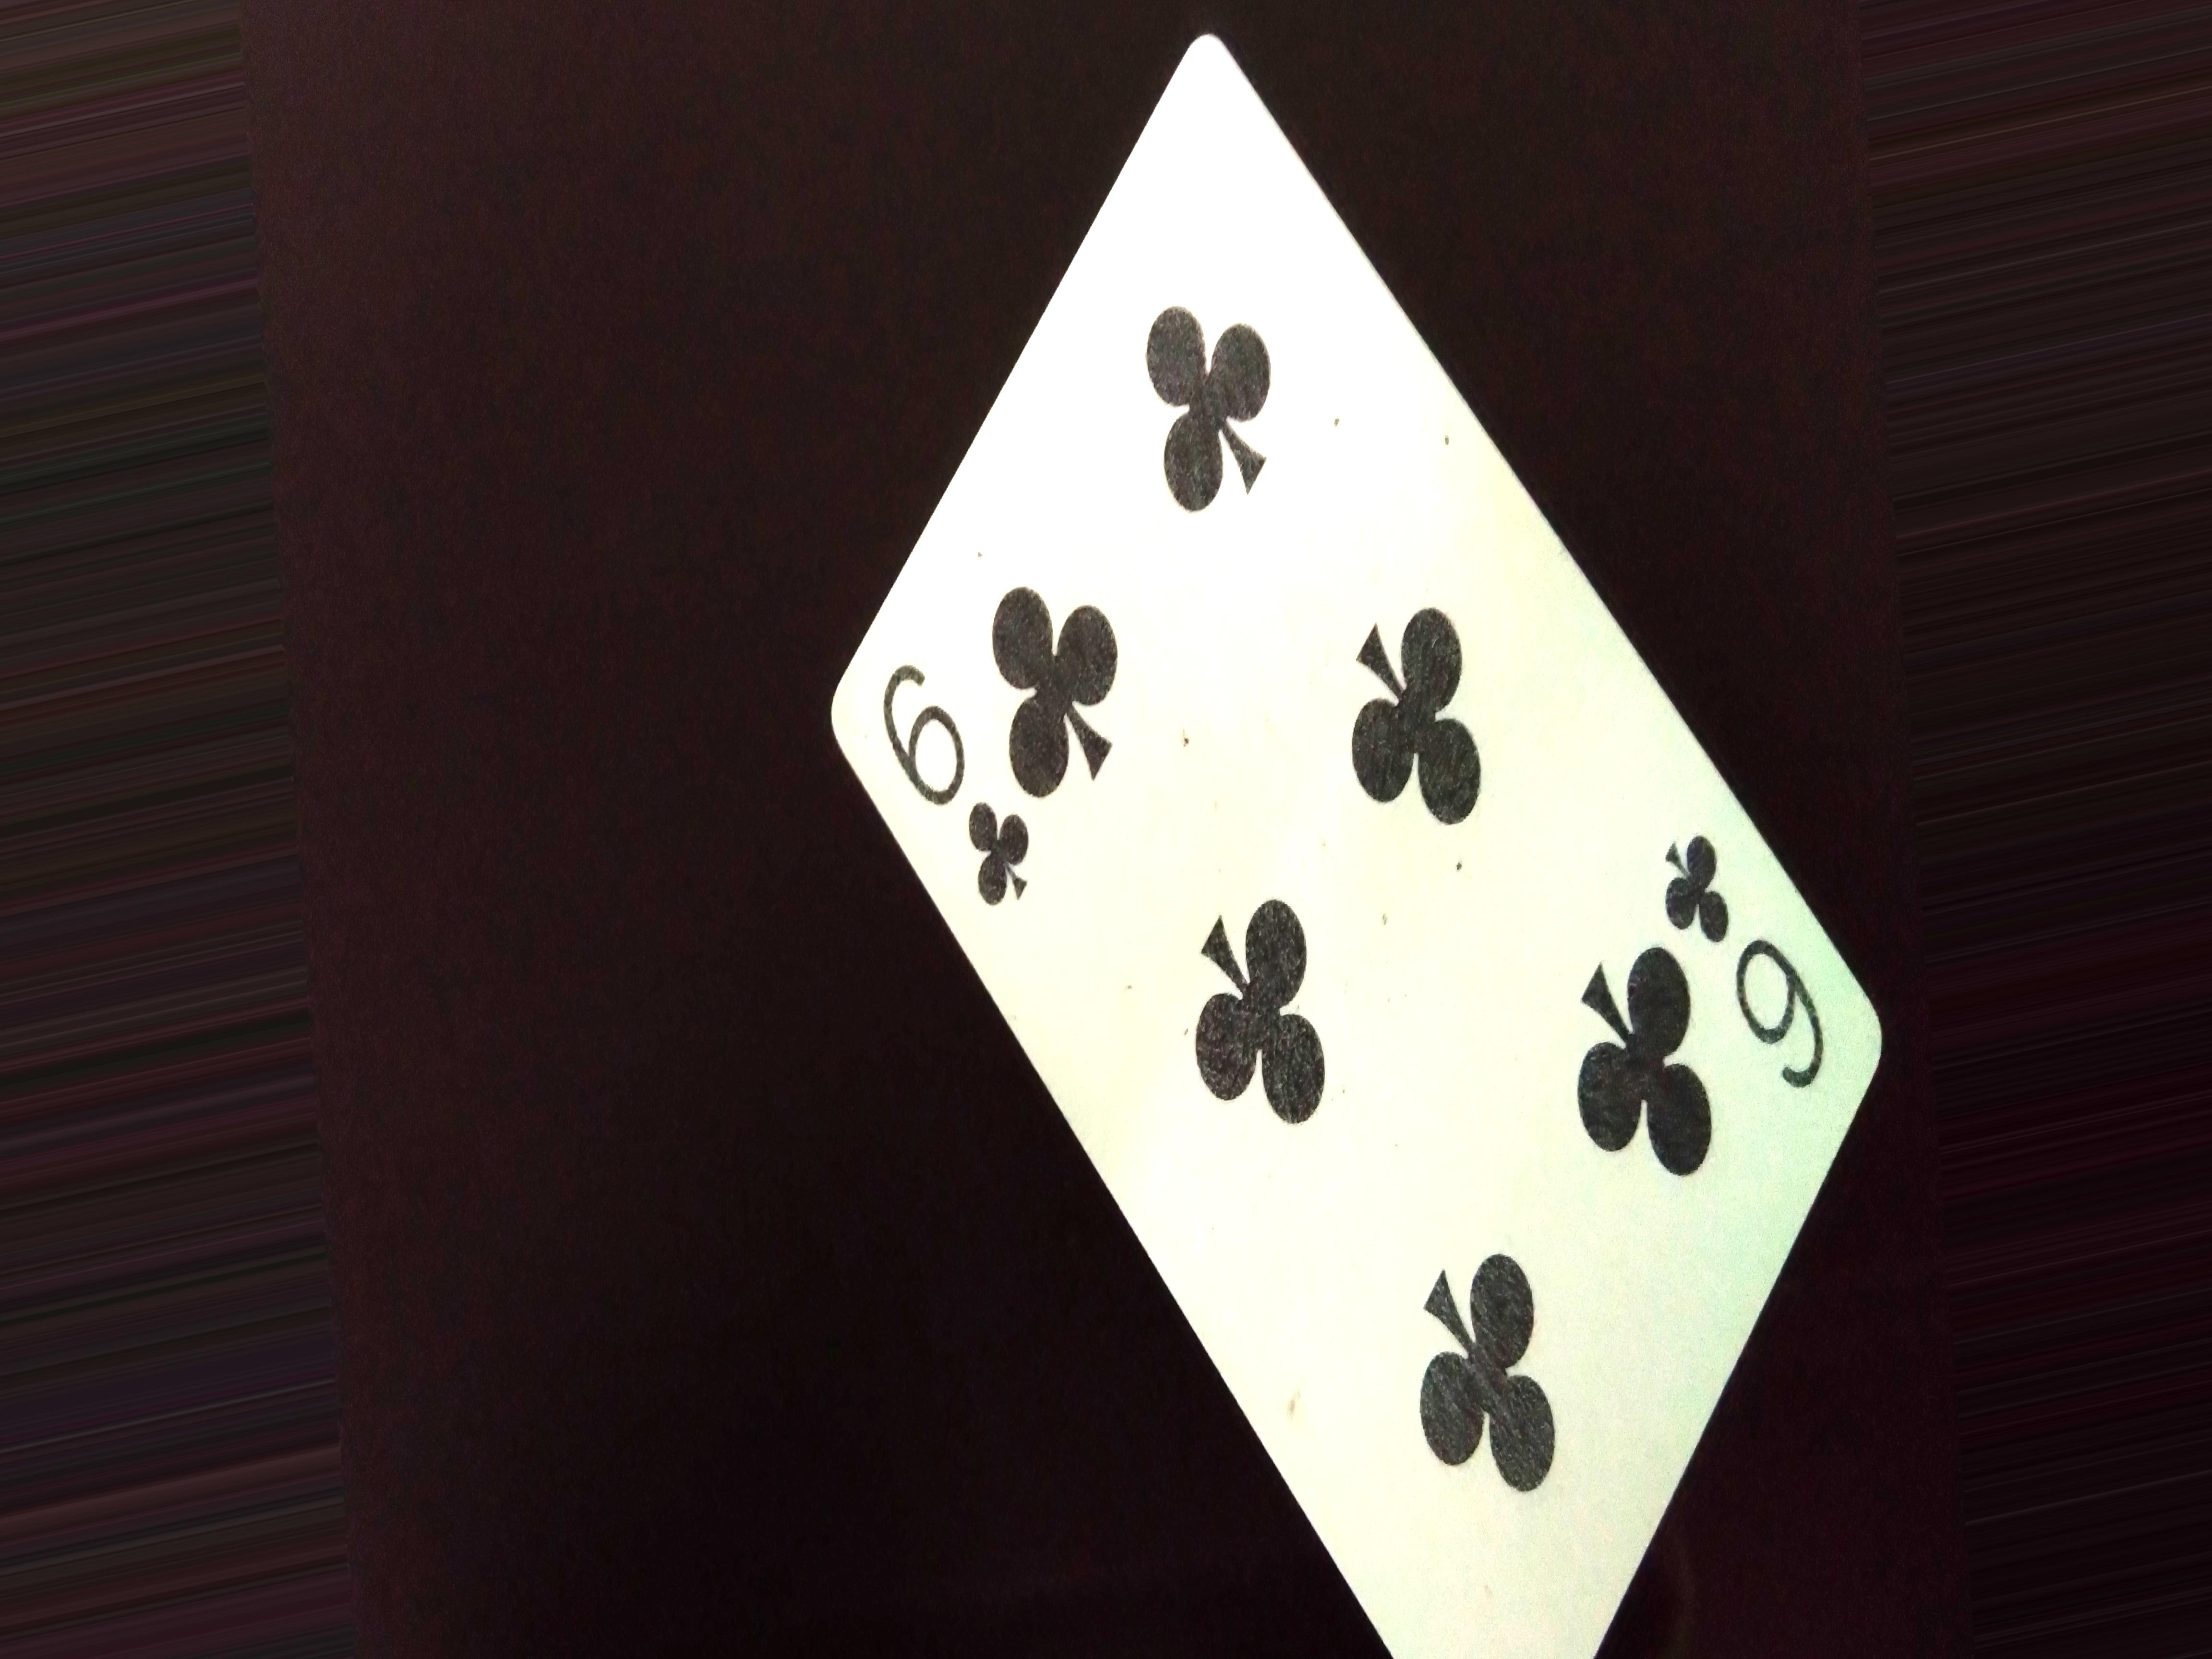6C: (1662, 833, 1841, 1093)
